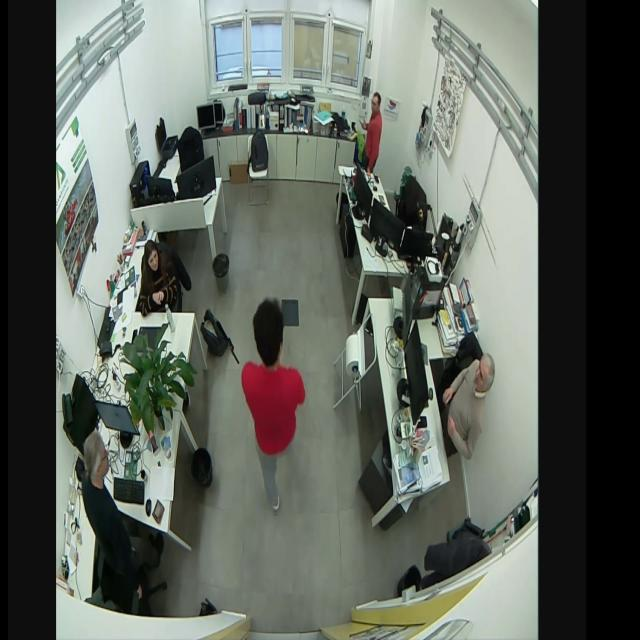Persona: (238, 292, 310, 516), (78, 426, 140, 593), (438, 347, 498, 463), (135, 234, 181, 326), (359, 90, 384, 176)
